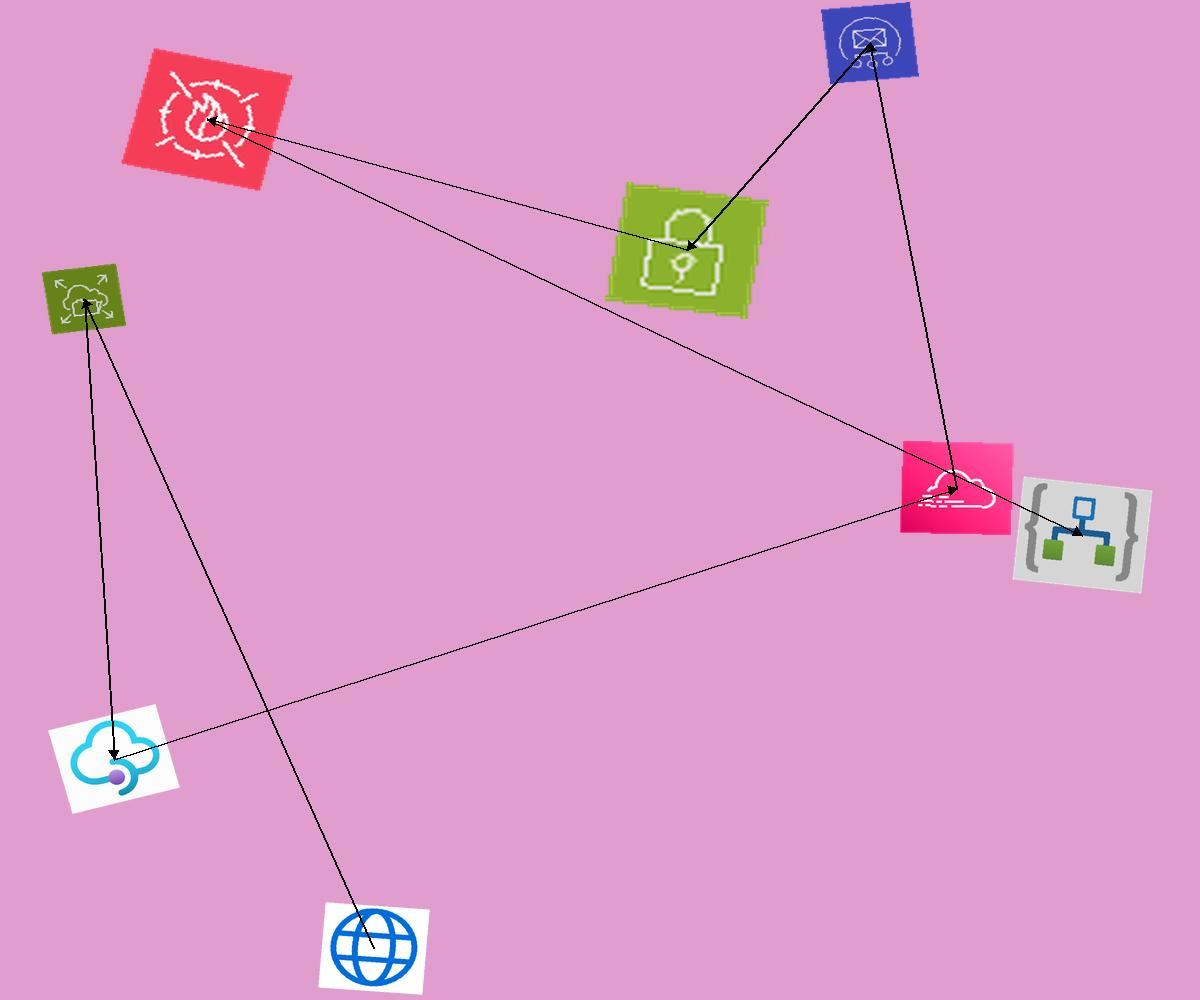AWS-CloudTrail: (899, 440, 1015, 536)
AWS-EFS: (41, 263, 127, 335)
AWS-Public-subnet: (605, 182, 769, 319)
AWS-Simple-Email-Service: (821, 2, 919, 84)
AWS-WAF: (120, 47, 294, 192)
Azure_api_gateway: (48, 704, 180, 814)
Azure_http: (318, 902, 430, 995)
Azure_integration-204-Logic-Apps: (1012, 476, 1153, 594)
